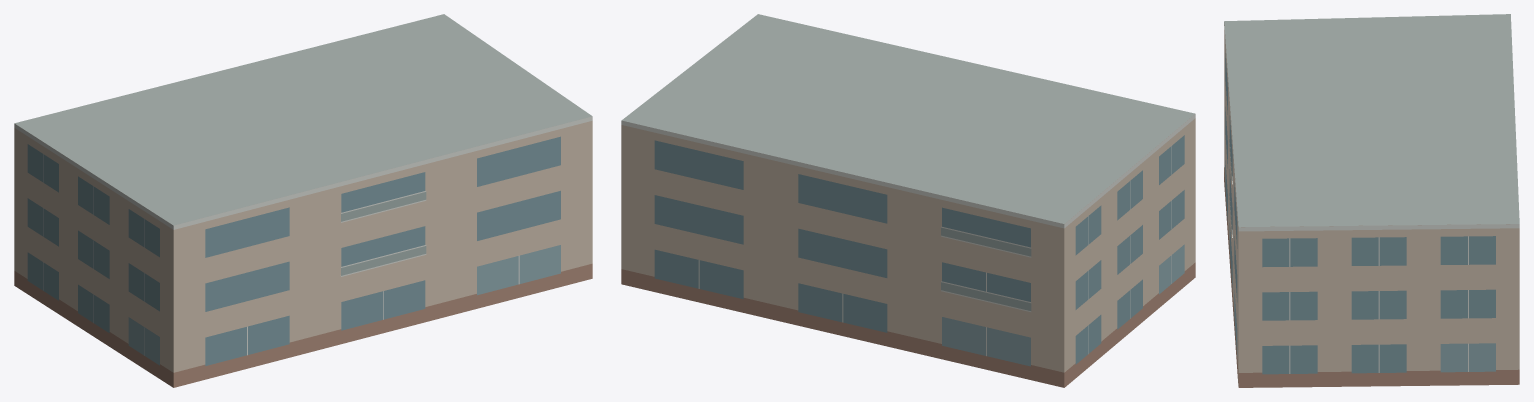
File: survey-upis-32836838.glb
The picture shows the model from 3 angles, left to right: view 1: azimuth 30°, elevation 25°; view 2: azimuth 150°, elevation 25°; view 3: azimuth 270°, elevation 25°; orthographic projection.
Visible parts, largest first — view 1: survey-upis-32836838.tmp; view 2: survey-upis-32836838.tmp; view 3: survey-upis-32836838.tmp.
Part boxes in pixels (x1,y1,x2,y2): survey-upis-32836838.tmp: (14,14,592,387); survey-upis-32836838.tmp: (621,14,1195,387); survey-upis-32836838.tmp: (1224,14,1519,387).
Bounding box in the file's own units: 26.03 × 9.15 × 15.26.
